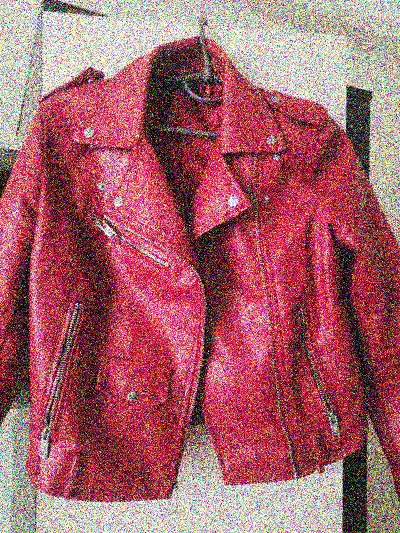Blazer: (0, 47, 400, 493)
